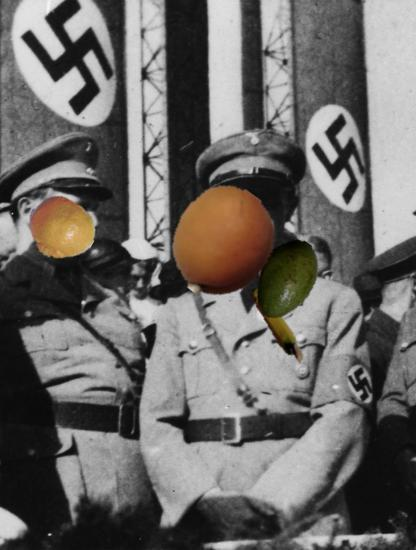Apricot: (166, 186, 280, 300)
Avocado: (244, 237, 328, 321)
Banana: (234, 282, 322, 370)
Mandarine: (27, 195, 96, 264)
